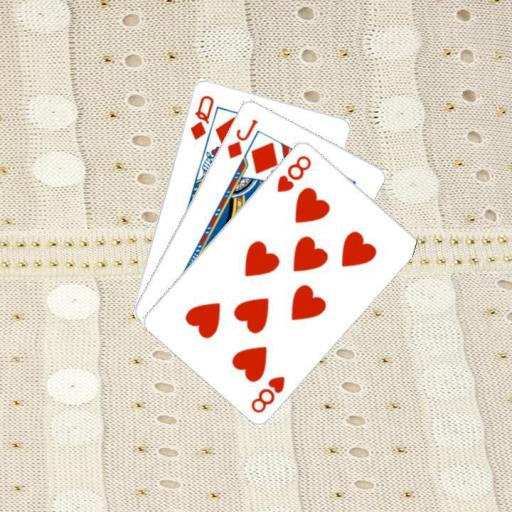8H: (273, 152, 313, 194), (248, 372, 287, 414)
JD: (223, 115, 260, 160)
QD: (187, 91, 216, 141)
